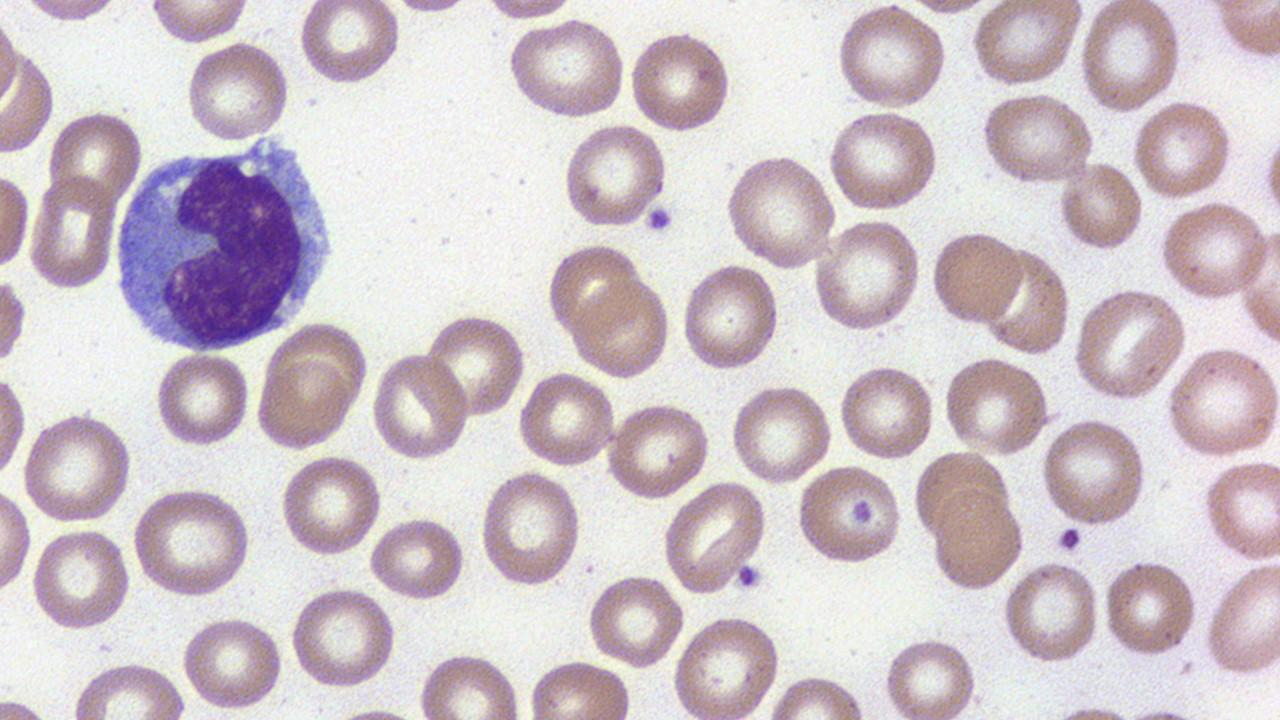Platelets: (643, 203, 676, 235), (734, 562, 766, 593)
RBC: (131, 484, 254, 599), (1070, 286, 1188, 403), (723, 151, 838, 271), (20, 408, 136, 523), (477, 468, 586, 588), (812, 216, 923, 333), (1166, 346, 1280, 459), (832, 3, 950, 112), (505, 15, 626, 121), (660, 478, 768, 596), (669, 611, 785, 718), (826, 108, 941, 215), (560, 120, 669, 232), (1077, 0, 1185, 112), (1040, 416, 1148, 528), (287, 584, 399, 690), (679, 261, 784, 374), (794, 462, 905, 568), (1157, 200, 1273, 301), (626, 29, 734, 135), (184, 38, 293, 143), (425, 310, 528, 421), (943, 353, 1050, 459), (30, 524, 133, 634), (370, 348, 470, 461), (278, 452, 384, 558), (978, 91, 1094, 187), (604, 400, 712, 502), (261, 317, 371, 417), (27, 173, 119, 291), (1131, 98, 1235, 202), (728, 383, 835, 484), (1002, 558, 1102, 666), (570, 276, 672, 380), (178, 614, 286, 712), (515, 369, 618, 470), (834, 362, 938, 462), (46, 107, 146, 210), (982, 244, 1072, 358), (928, 490, 1028, 592), (152, 349, 254, 449), (1101, 557, 1199, 661), (968, 2, 1083, 89), (1202, 552, 1280, 680), (252, 357, 356, 452), (586, 572, 686, 670), (928, 227, 1024, 328), (297, 1, 403, 86), (545, 240, 636, 337), (368, 514, 468, 602), (881, 631, 980, 718), (1056, 159, 1144, 254), (1202, 457, 1280, 564), (69, 658, 191, 718), (415, 650, 524, 717), (526, 656, 636, 718), (0, 44, 58, 156), (1237, 224, 1280, 350), (146, 1, 253, 45), (1209, 0, 1279, 63), (0, 482, 32, 600), (0, 168, 30, 275), (0, 369, 27, 486), (16, 0, 124, 25), (1260, 114, 1280, 240), (0, 6, 20, 116), (479, 0, 579, 22)
WBC: (107, 128, 342, 358)
